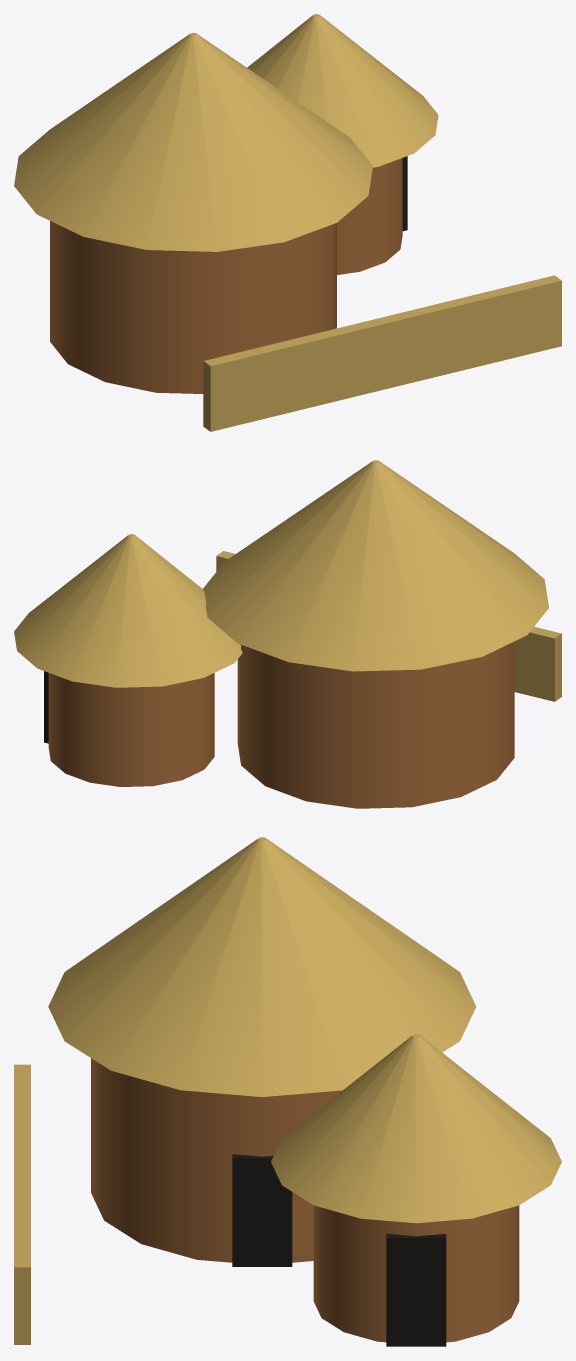
Rendered from house.glb.
3 renders of one model, top to bottom at view 1: azimuth 30°, elevation 25°; view 2: azimuth 150°, elevation 25°; view 3: azimuth 270°, elevation 25°, orthographic. The views are drawn at different scales.
Visible parts, largest first — view 1: House; view 2: House; view 3: House.
Part boxes in pixels (left/top/right/bottom): House: left=14, top=14, right=561, bottom=431; House: left=14, top=460, right=561, bottom=808; House: left=14, top=837, right=561, bottom=1346.
Bounding box in the file's own units: 7.2 × 4.56 × 6.4.
